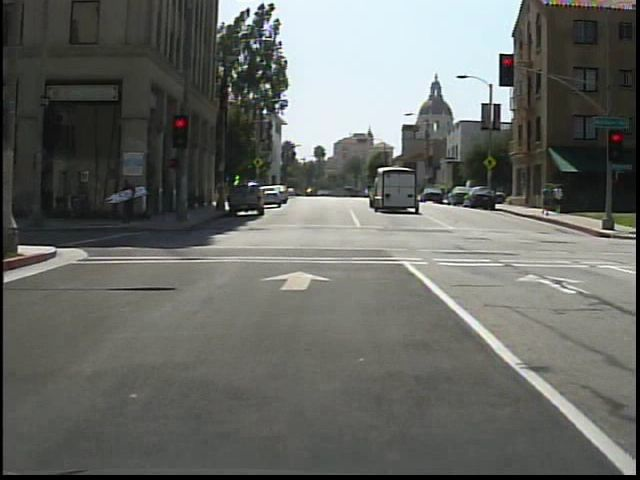person: (117, 176, 147, 225), (550, 183, 567, 216), (540, 184, 555, 219)
